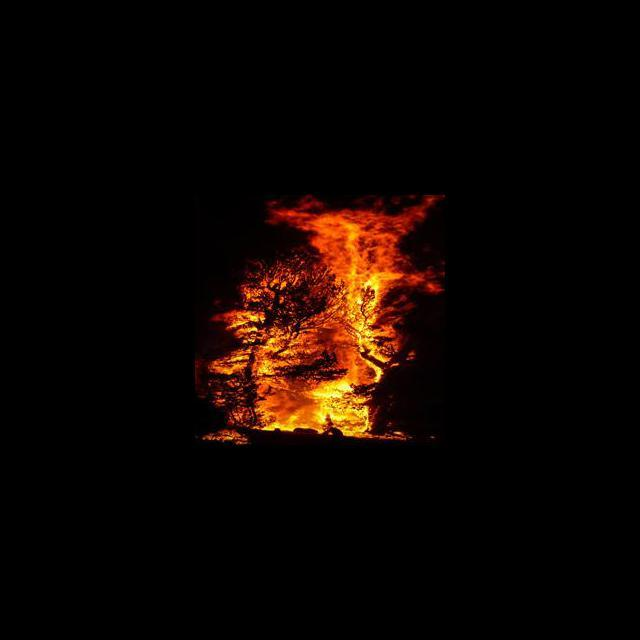Fire: (210, 205, 410, 438)
